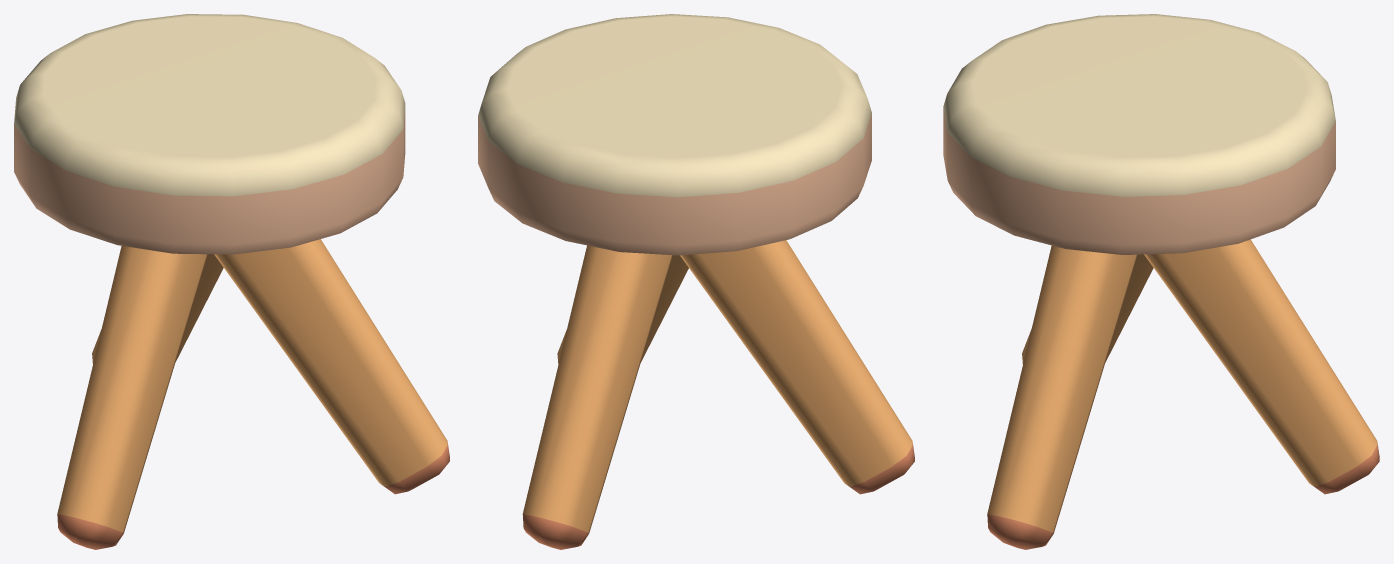
The model's file is banqueta_natal_pes_madeira_pacote.glb.
3 renders of one model, left to right at view 1: azimuth 30°, elevation 25°; view 2: azimuth 150°, elevation 25°; view 3: azimuth 270°, elevation 25°, orthographic.
Visible parts, largest first — view 1: banqueta_natal_pes_madeira_pacote; view 2: banqueta_natal_pes_madeira_pacote; view 3: banqueta_natal_pes_madeira_pacote.
Boxes of the visible parts, box(x1,y1,x2,y2) form: banqueta_natal_pes_madeira_pacote: box(14, 14, 449, 549); banqueta_natal_pes_madeira_pacote: box(478, 14, 914, 549); banqueta_natal_pes_madeira_pacote: box(943, 14, 1379, 549).
Size of the model in its own units: 0.4554 by 0.464 by 0.465.
Materials: 1 (1 with a texture image).
